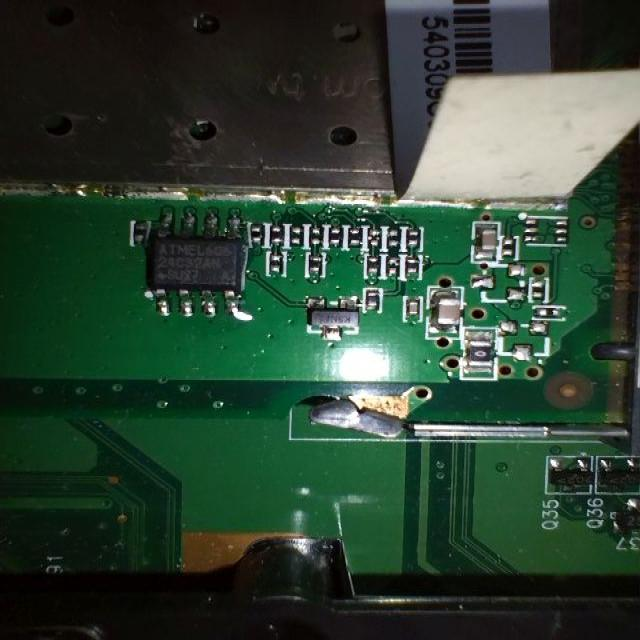capacitor: (430, 282, 458, 342), (466, 222, 499, 258)
resistor: (405, 227, 426, 258), (263, 248, 284, 272), (251, 223, 265, 253), (304, 250, 320, 274), (268, 223, 282, 244), (398, 255, 414, 271), (292, 222, 301, 243)
